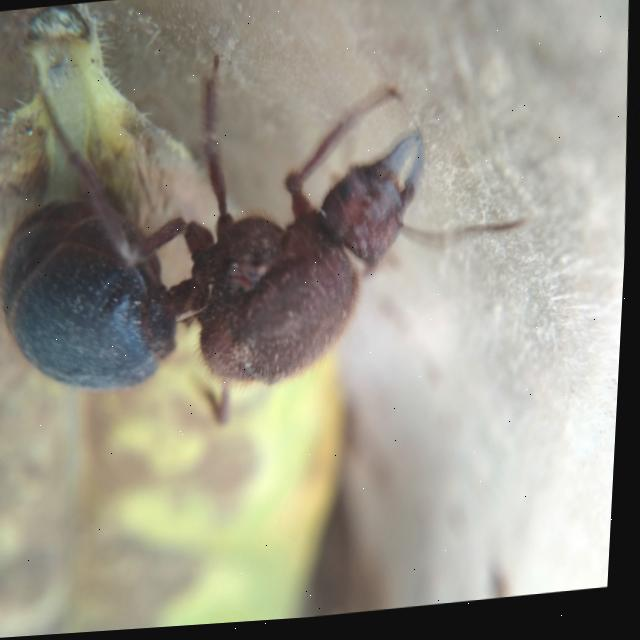Alive-Female-Dealate: (0, 17, 549, 453)
